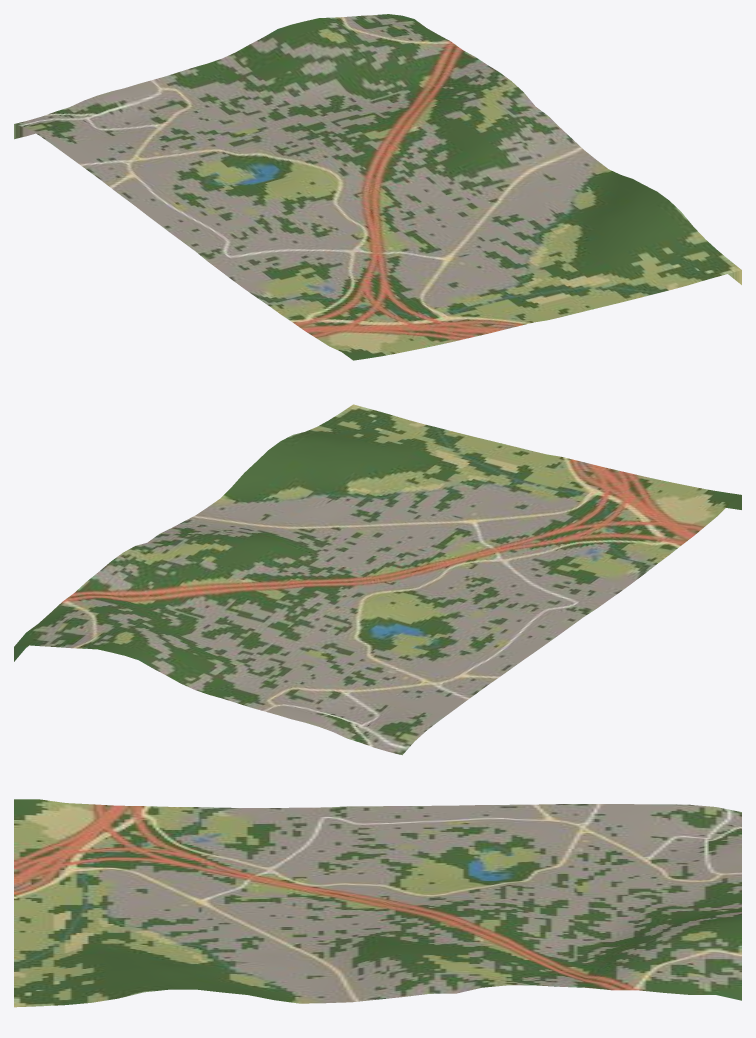
The picture shows the model from 3 angles, top to bottom: view 1: azimuth 30°, elevation 25°; view 2: azimuth 150°, elevation 25°; view 3: azimuth 270°, elevation 25°; orthographic projection. The views are drawn at different scales.
Size of the model in its own units: 1615 by 187 by 2444.
Materials: 1 (1 with a texture image).
